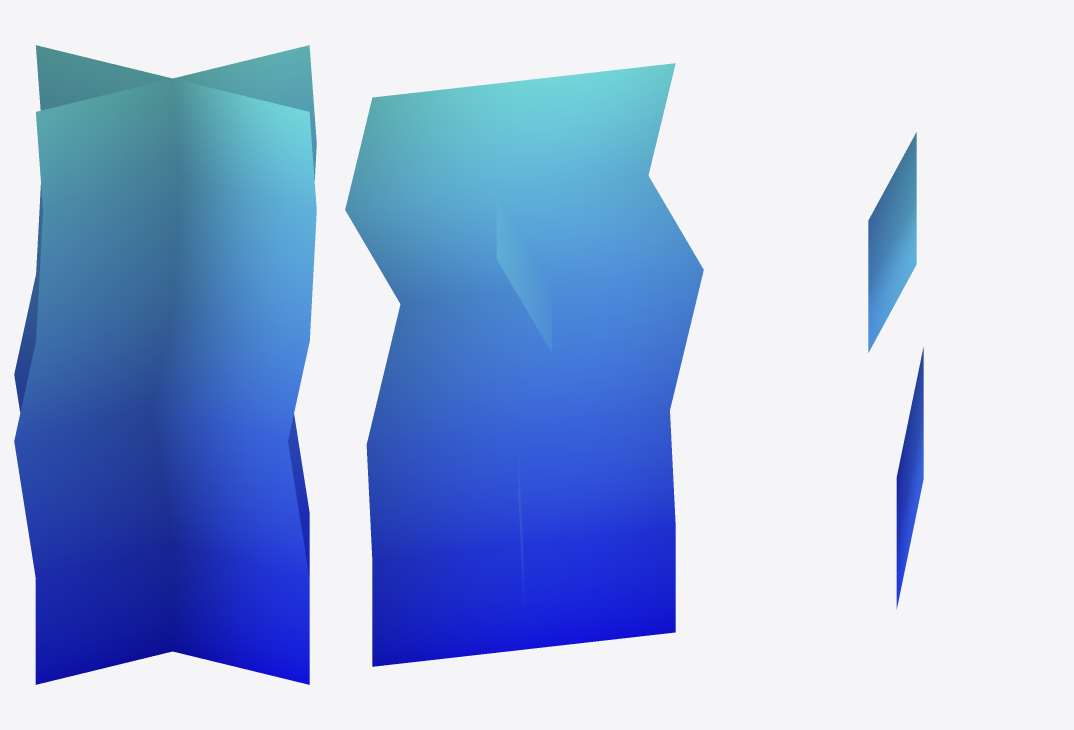
Rendered from SM_Env_Seaweed_01.gltf.
3 views of the same model, side by side, from view 1: azimuth 30°, elevation 25°; view 2: azimuth 150°, elevation 25°; view 3: azimuth 270°, elevation 25° (orthographic).
Visible parts, largest first — view 1: SM_Env_Seaweed_01_LOD0; view 2: SM_Env_Seaweed_01_LOD0; view 3: SM_Env_Seaweed_01_LOD0.
Part boxes in pixels (x1,y1,x2,y2): SM_Env_Seaweed_01_LOD0: (14, 45, 316, 684); SM_Env_Seaweed_01_LOD0: (345, 63, 703, 666); SM_Env_Seaweed_01_LOD0: (868, 132, 923, 608).
Bounding box in the file's own units: 1.23 × 2.2 × 1.15.
